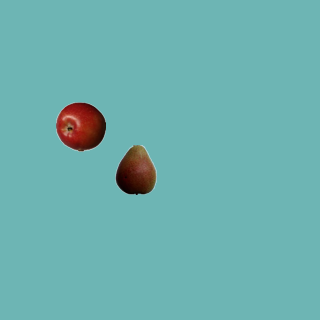Apple Braeburn: (55, 101, 105, 151)
Pear Forelle: (110, 144, 160, 194)
